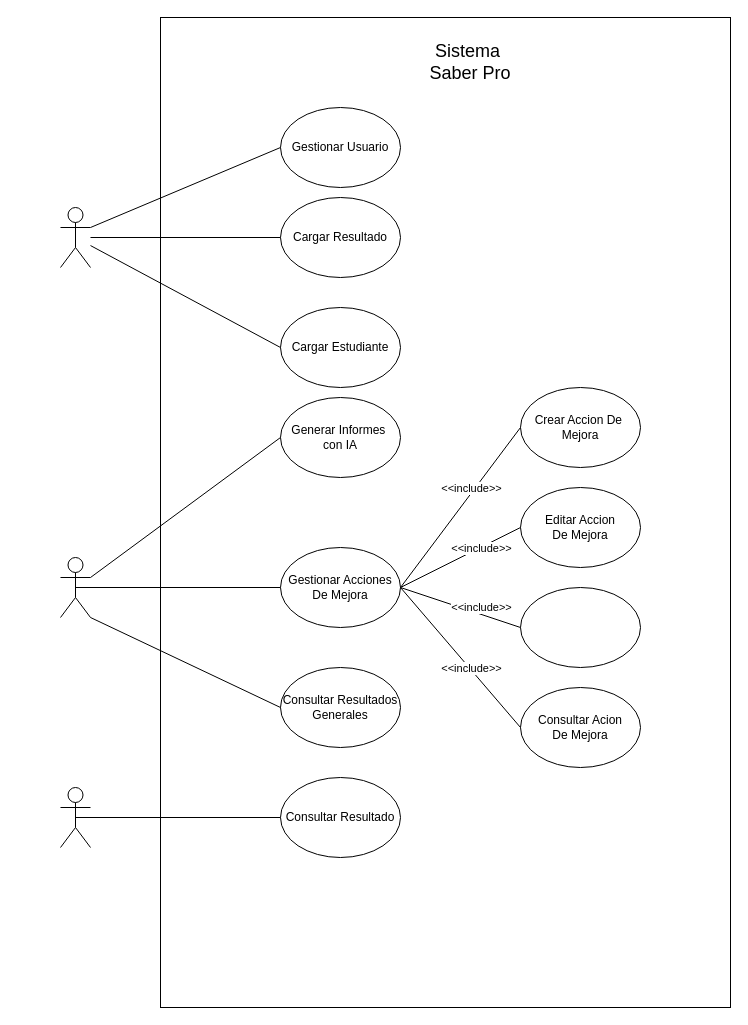
Some shapes in this 748 by 1025 pixel diagram are drawn without their labels. The shapes that lost their labels are listed below. From the top down, each one's box as (x1, y1, x2, y2) in pixels, then its label:
(60, 206, 90, 268): Administrador
(60, 556, 90, 618): Personal Universitario
(520, 586, 640, 668): Eliminar Accion De Mejora
(60, 786, 90, 848): Estudiante
